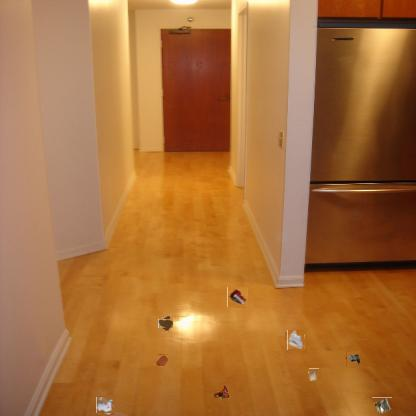dirty: (228, 287, 248, 308), (286, 331, 305, 350), (214, 384, 234, 402), (372, 397, 392, 414), (97, 397, 115, 414), (346, 351, 360, 367), (309, 369, 320, 380)
liquid: (154, 354, 168, 366), (160, 317, 172, 330)
